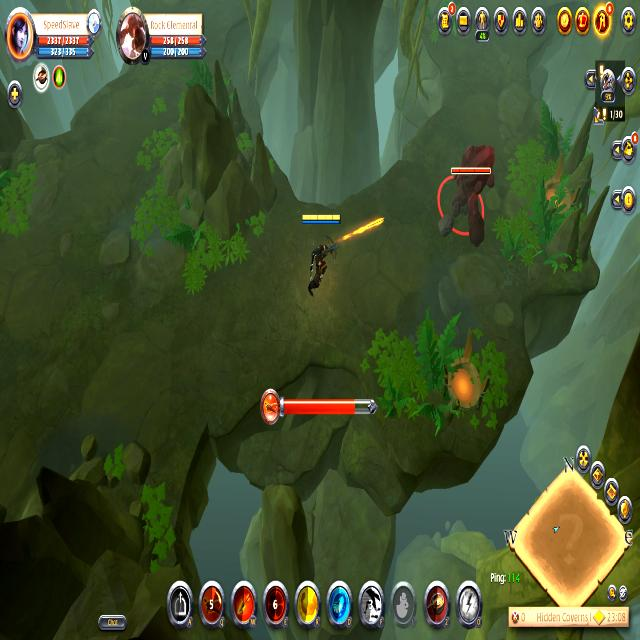red: (435, 142, 501, 241), (301, 210, 347, 308)
